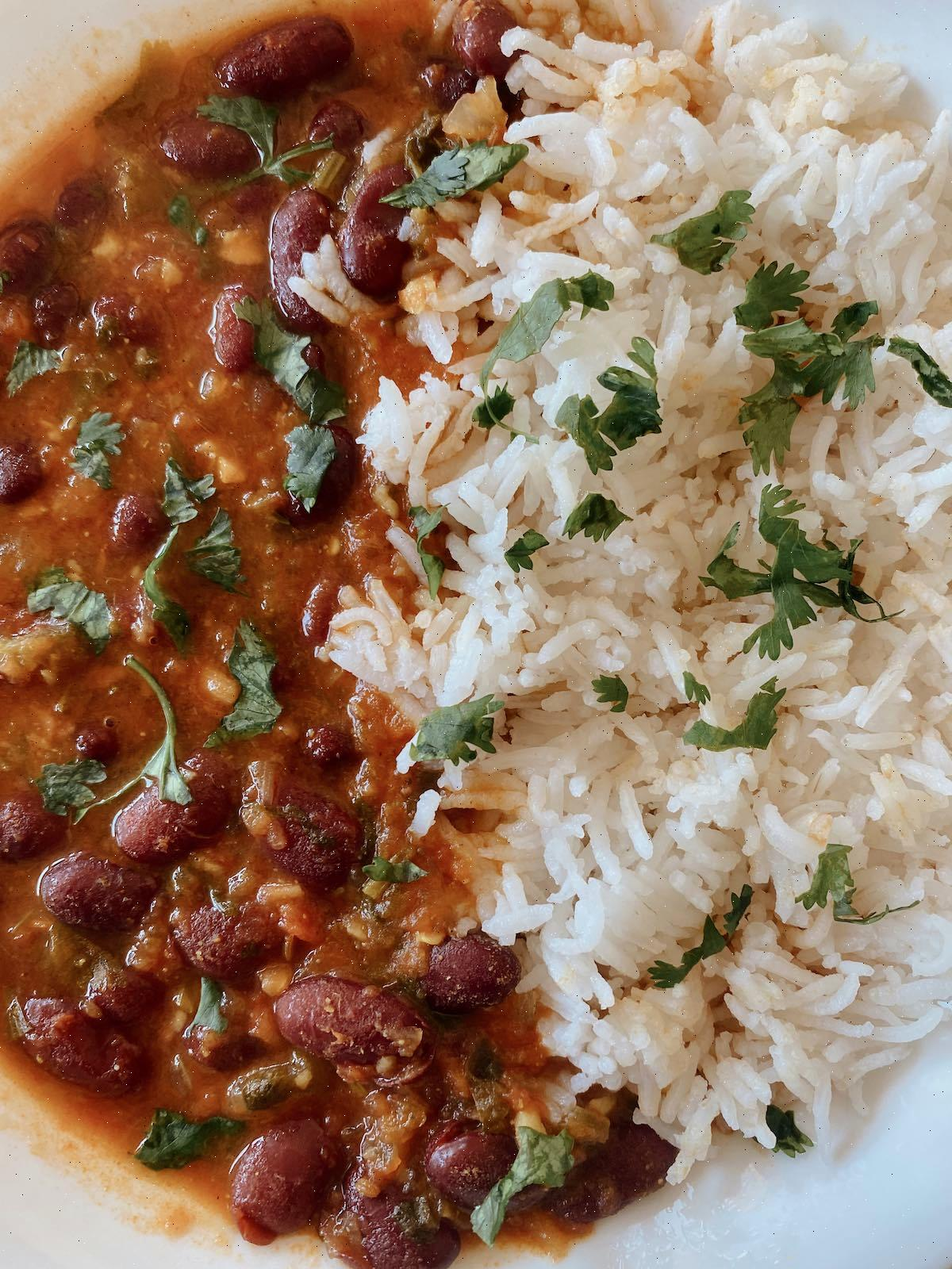rajma: (0, 131, 389, 1261)
rice: (452, 135, 952, 1071)
